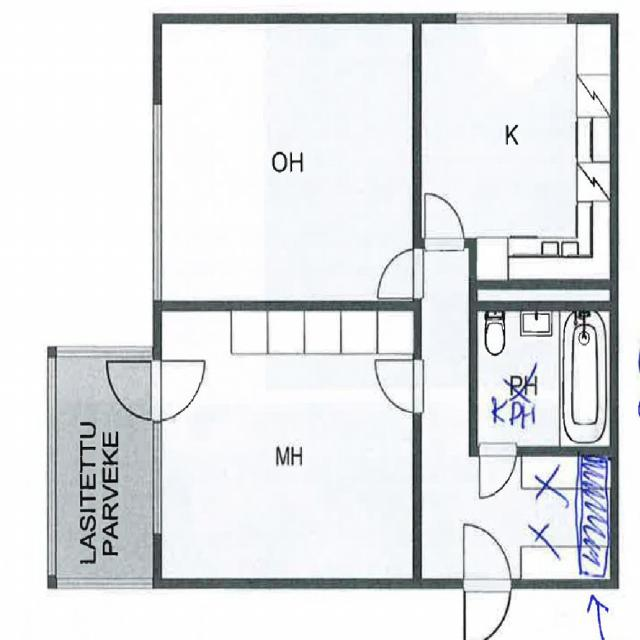door: (153, 359, 210, 420), (105, 359, 161, 420), (464, 520, 512, 588), (464, 579, 512, 640), (372, 360, 421, 413), (426, 188, 464, 246), (376, 249, 421, 297), (480, 446, 516, 502)
